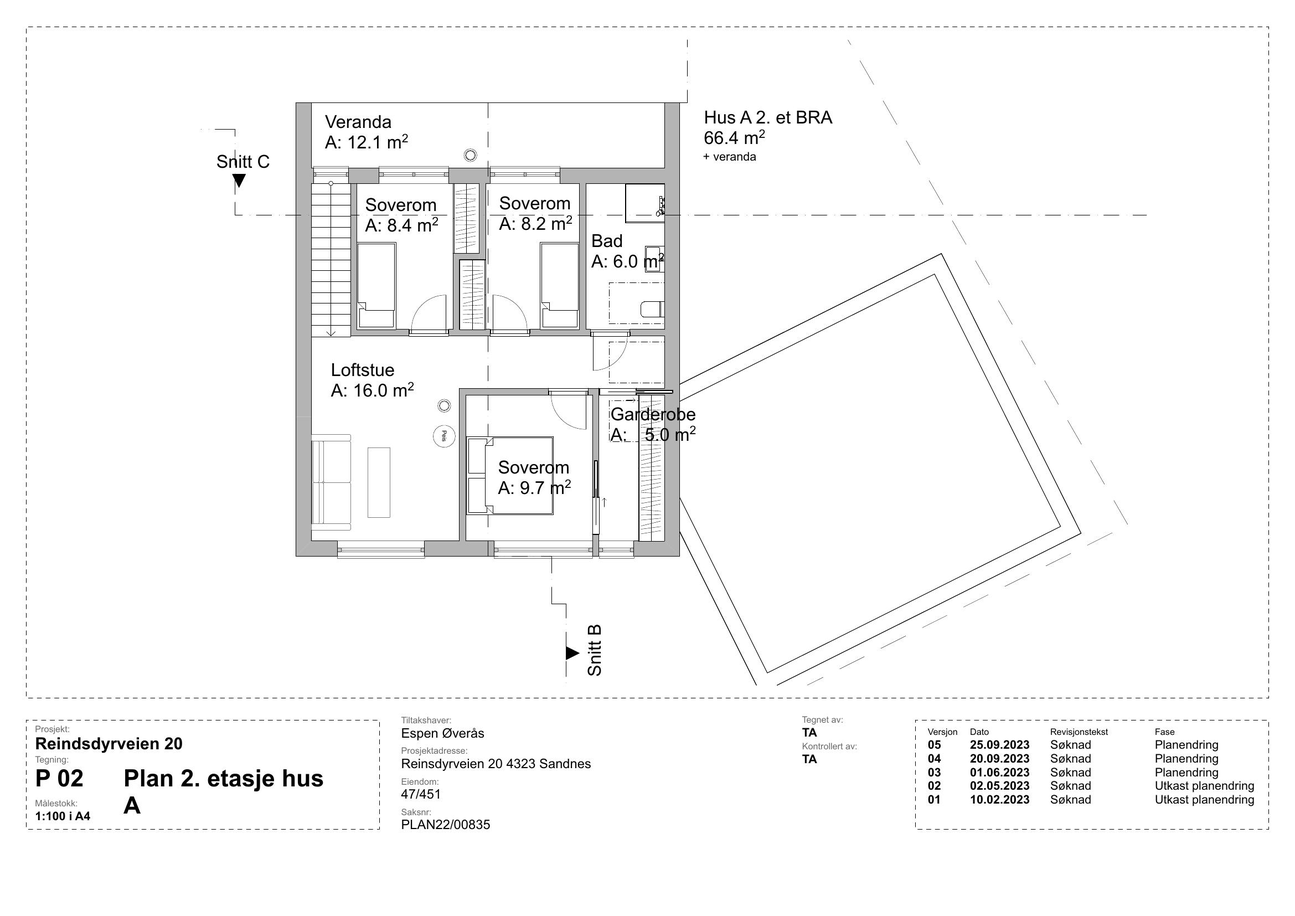plantegning: (292, 99, 1086, 685)
